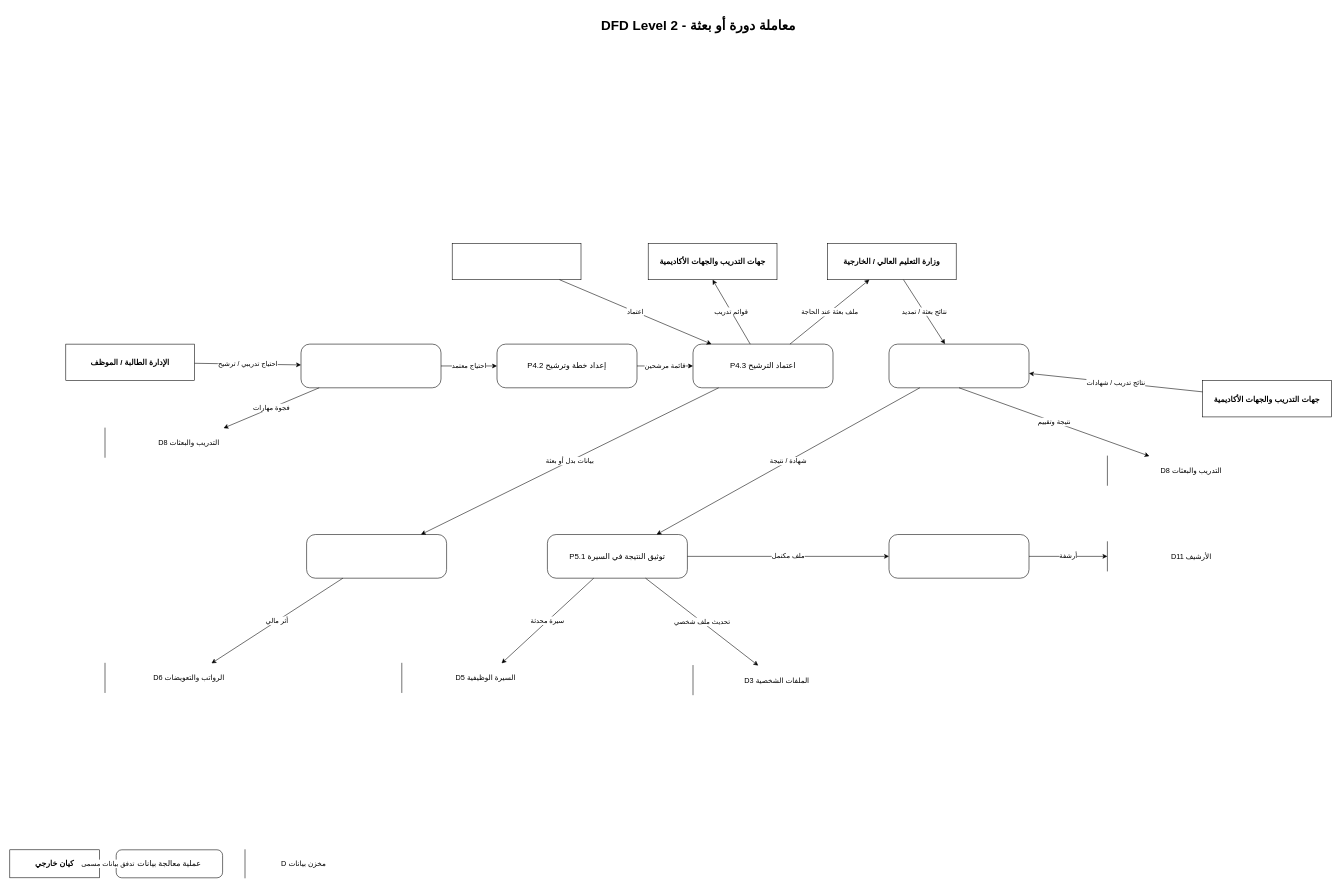
Image size: 1341x888. Some labels were removed from this diagram. Here are the shapes that lost their labels. From the top down, the centre of each, then its label:
point 516,261: الإدارة العليا
point 370,366: P4.1 تحليل فجوة المهارات
point 958,366: P4.4 متابعة التنفيذ والنتائج
point 376,556: P6.1 أثر بعثة / بدل
point 958,556: P7.1 أرشفة ملف التدريب
